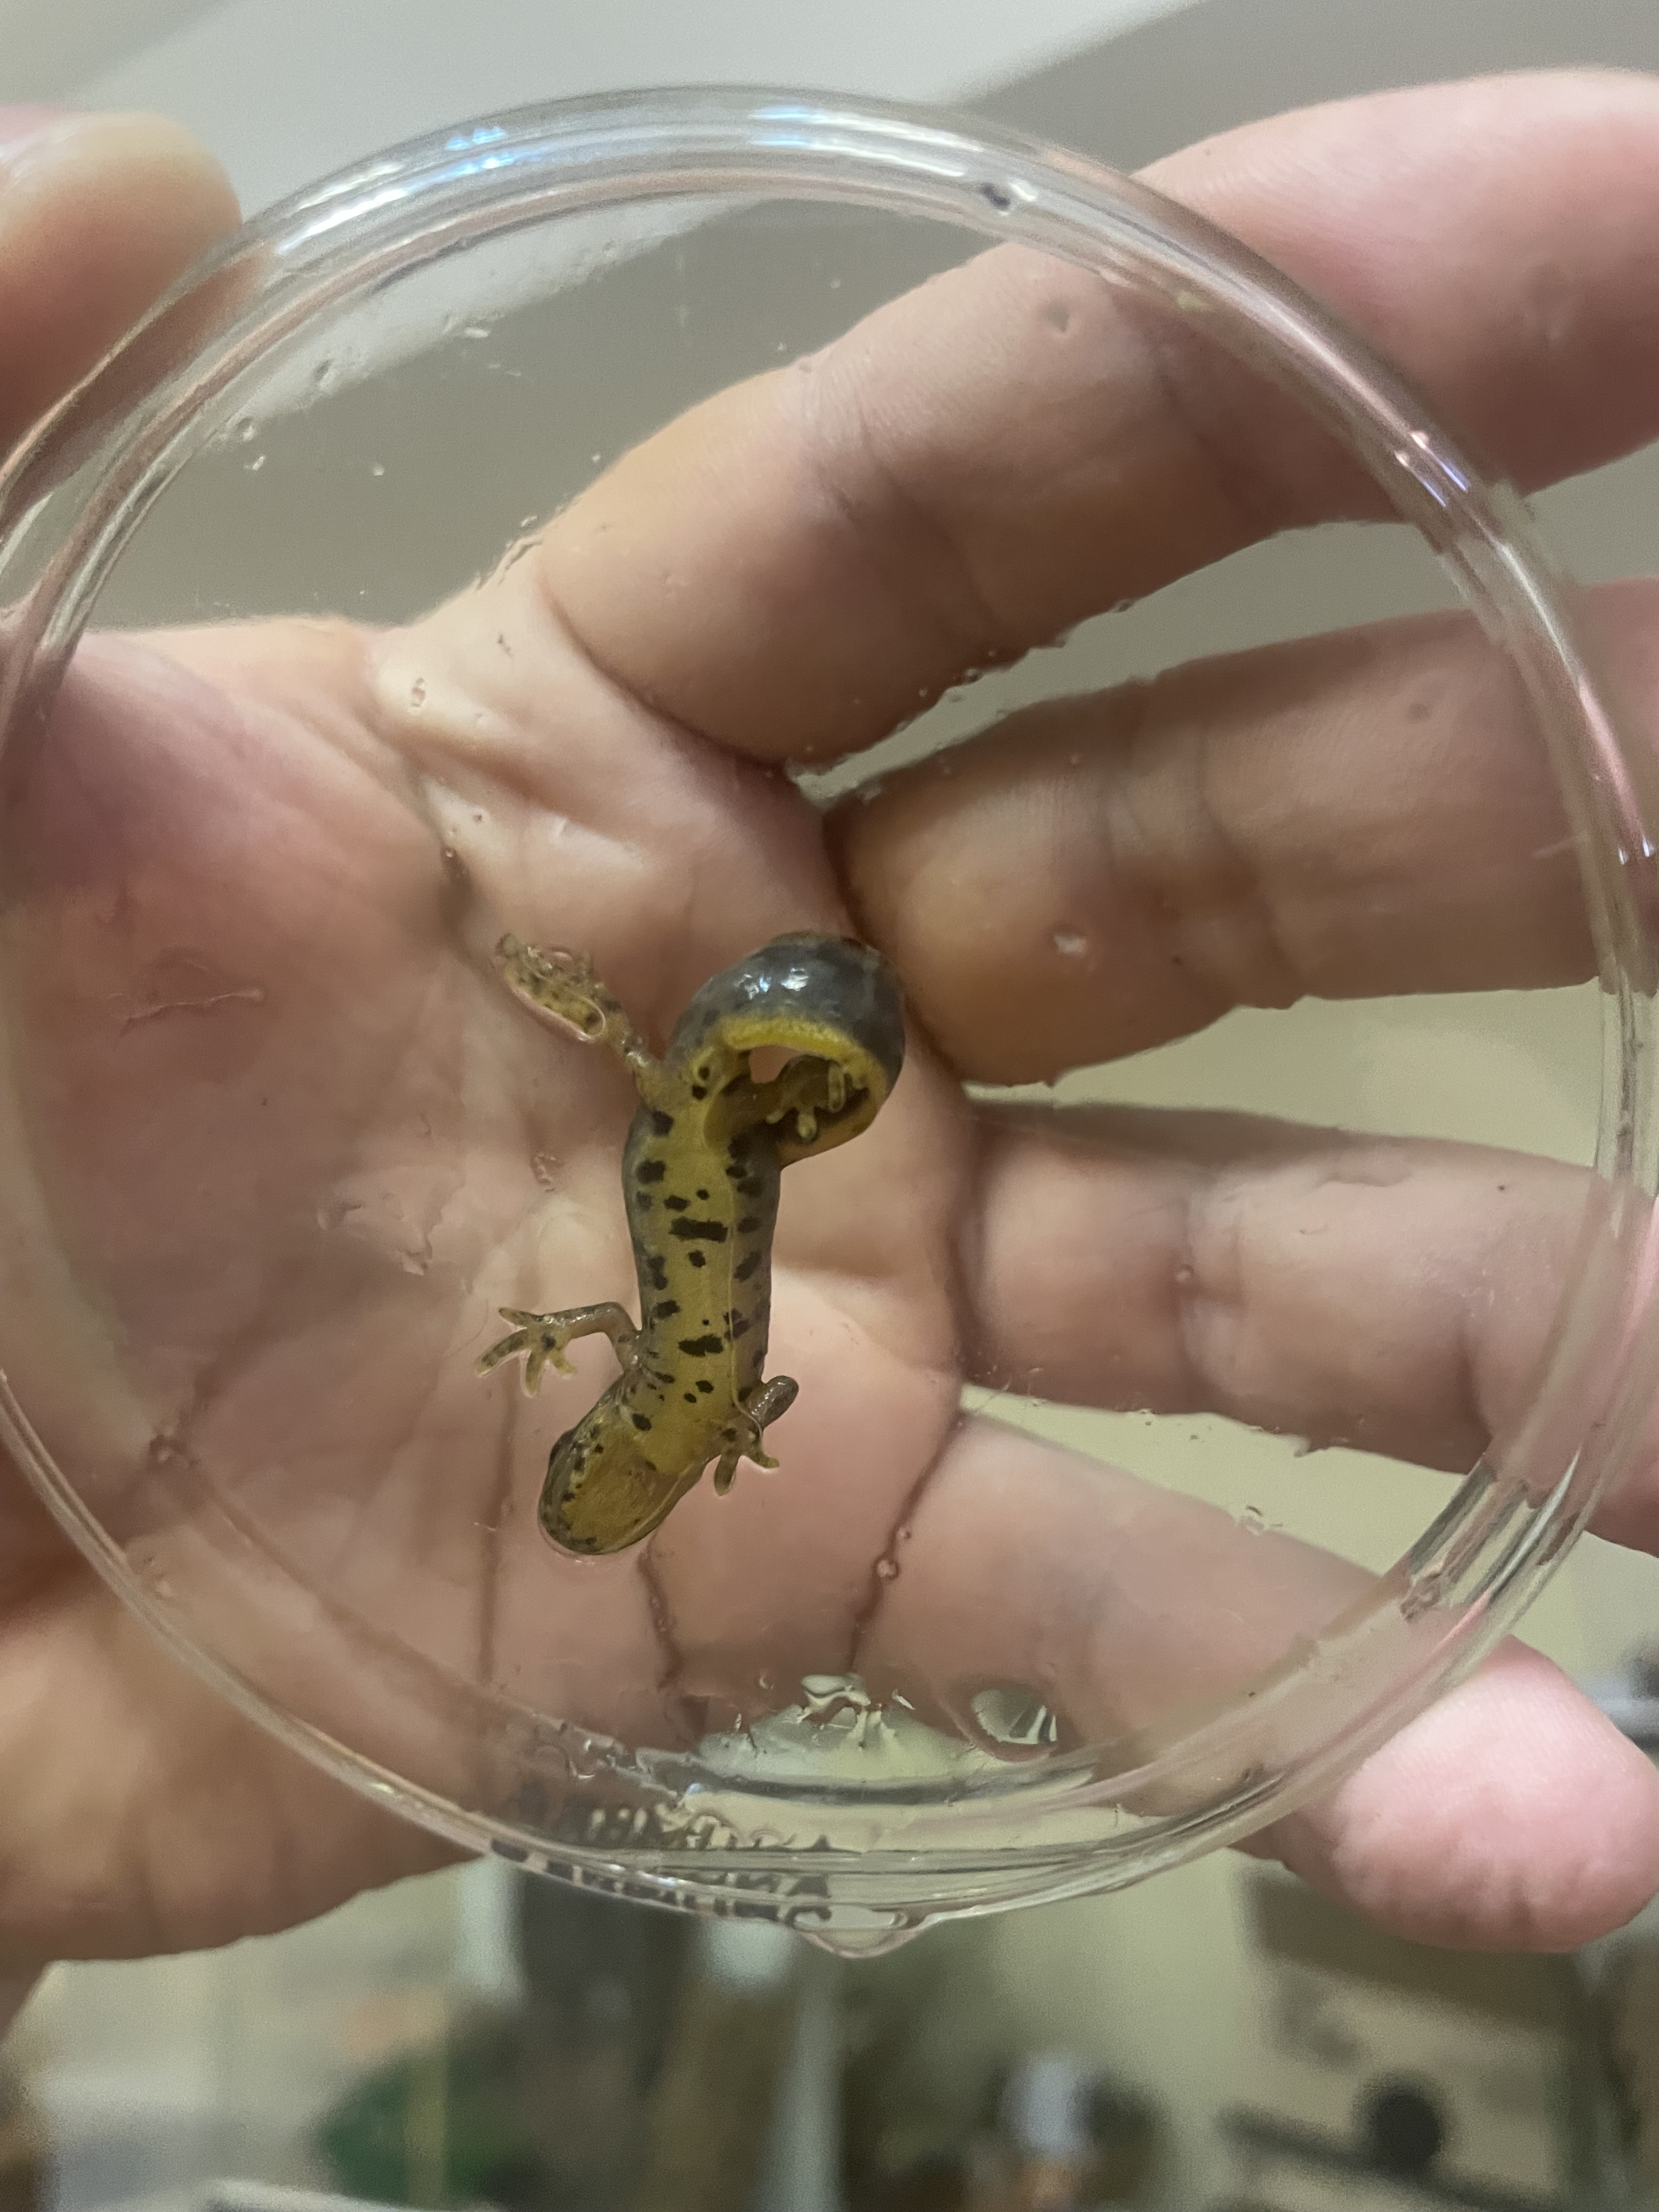Karelin_newt: (619, 1101, 781, 1383)
